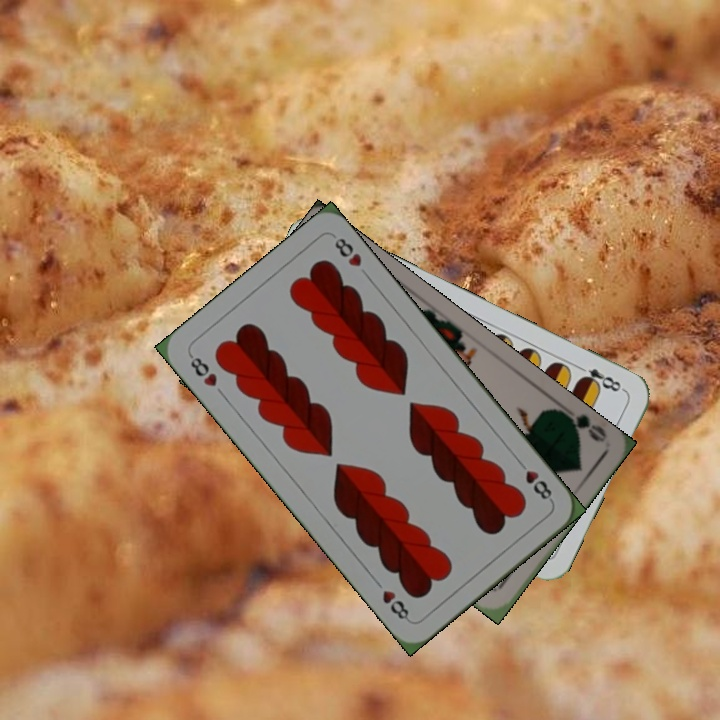E8: (573, 361, 628, 395)
GO: (554, 405, 609, 445)
H8: (513, 455, 556, 505), (185, 350, 220, 390)
